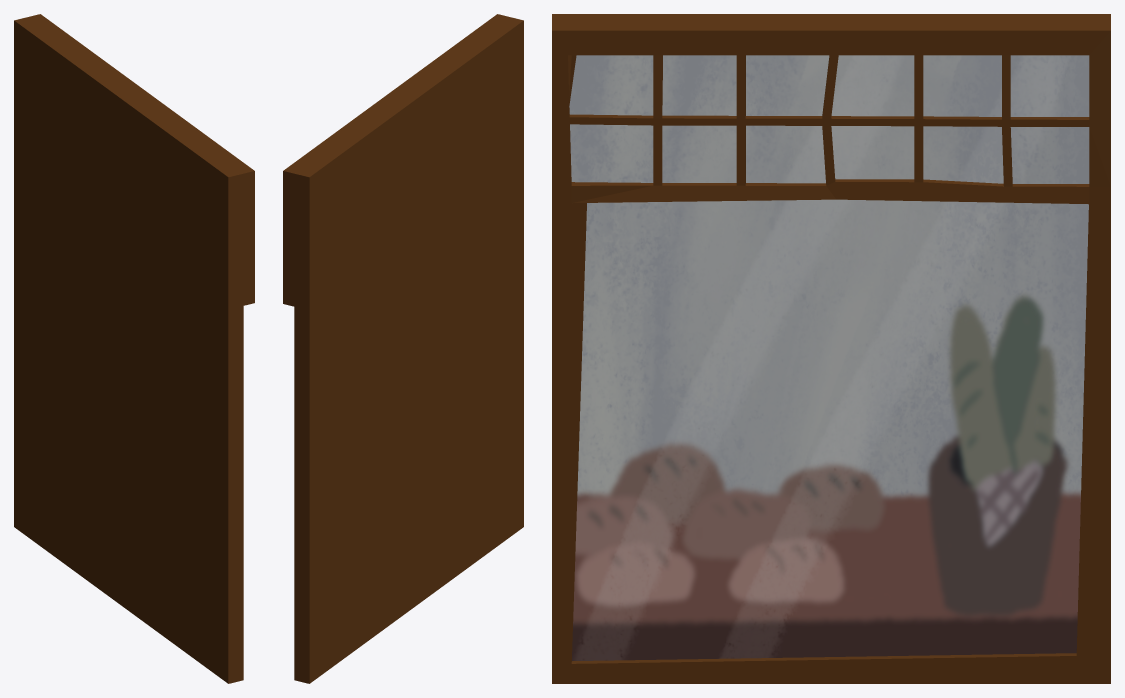
File: GrocerWindow.fbx
The picture shows the model from 3 angles, left to right: view 1: azimuth 30°, elevation 25°; view 2: azimuth 150°, elevation 25°; view 3: azimuth 270°, elevation 25°; orthographic projection. The views are drawn at different scales.
Visible parts, largest first — view 1: Cube.018; view 2: Cube.018; view 3: Cube.018.
Boxes of the visible parts, x1=… form: Cube.018: x1=14, y1=14, x2=254, y2=683; Cube.018: x1=283, y1=14, x2=523, y2=683; Cube.018: x1=552, y1=14, x2=1110, y2=683.
Bounding box in the file's own units: 14.68 × 266 × 204.
